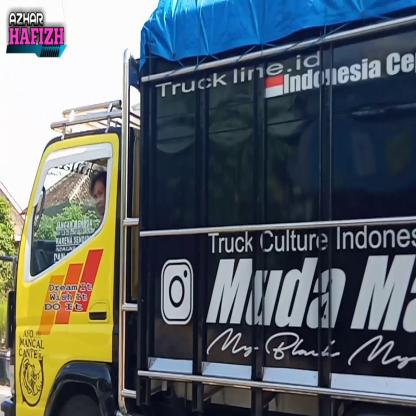truck: (12, 47, 416, 416)
